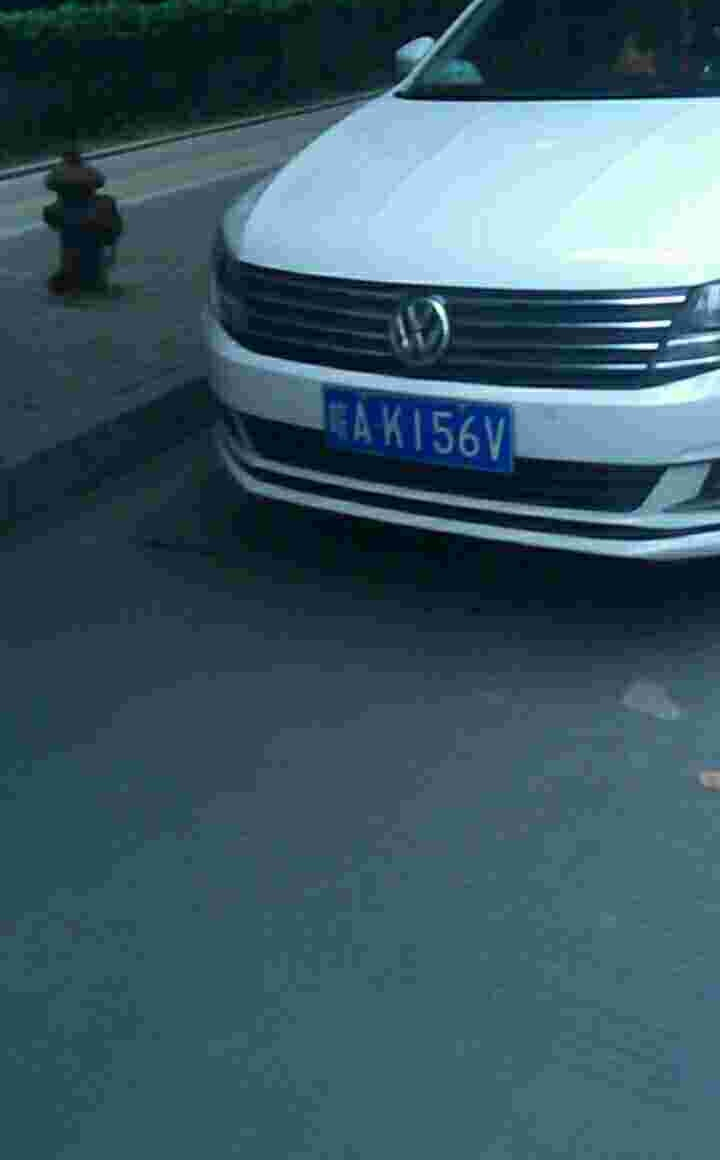plate: (319, 381, 516, 477)
